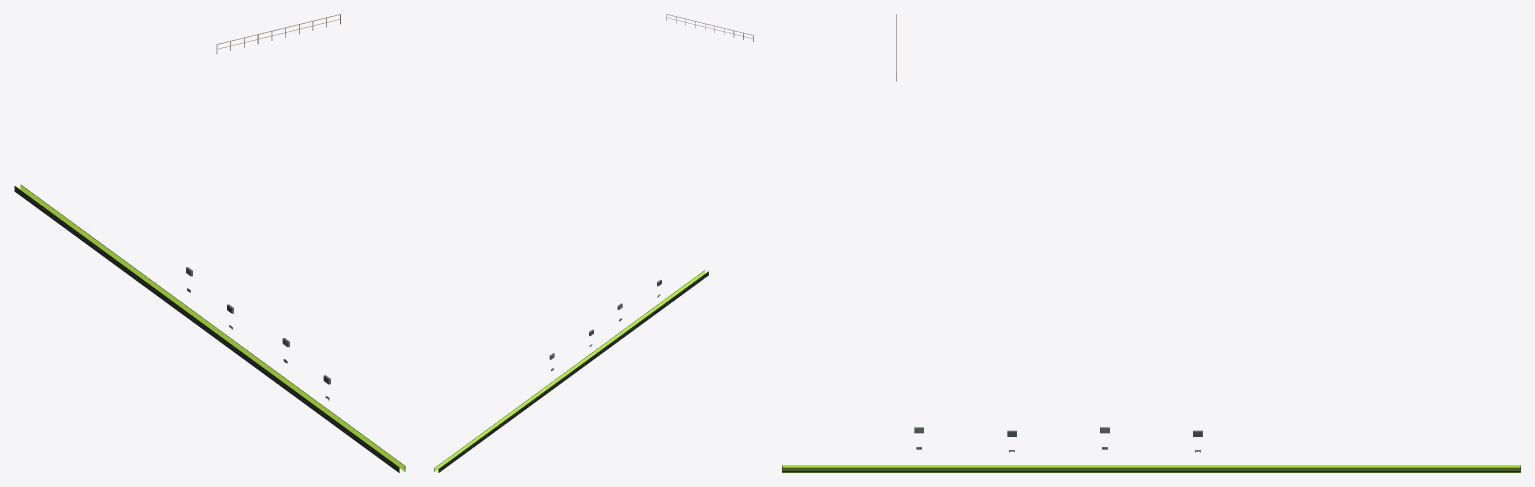
The picture shows the model from 3 angles, left to right: view 1: azimuth 30°, elevation 25°; view 2: azimuth 150°, elevation 25°; view 3: azimuth 270°, elevation 25°; orthographic projection. The views are drawn at different scales.
Parts seen in each view (by area): view 1: p1_m3; view 2: p1_m3; view 3: p1_m3.
Part boxes in pixels (box(x1,y1,x2,y2)): p1_m3: box(14, 14, 405, 472); p1_m3: box(434, 14, 753, 472); p1_m3: box(782, 14, 1520, 472).
Size of the model in its own units: 14.84 by 44.95 by 75.5.
